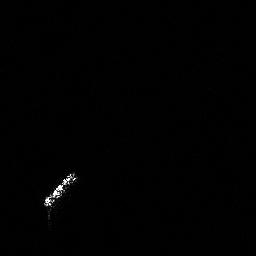ship: (42, 168, 81, 223)
